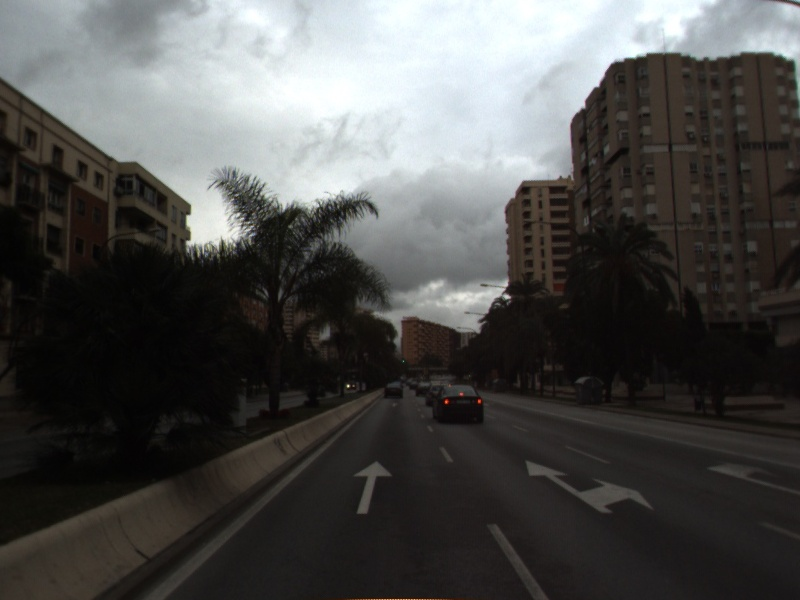RIGHT: (704, 459, 800, 495)
STRAIGHT: (351, 459, 395, 516)
STRAIGHT_RIGHT: (523, 458, 656, 515)
